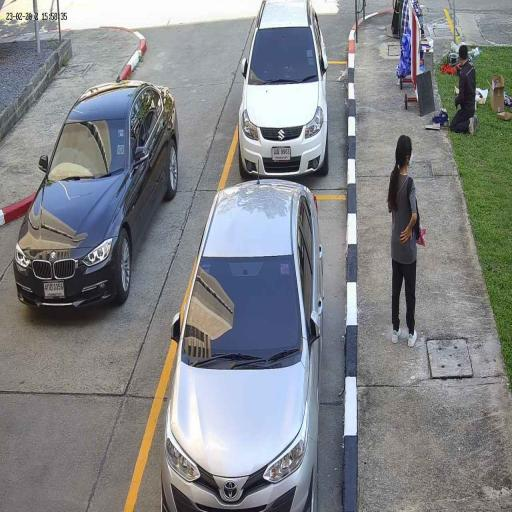car: (160, 177, 325, 512), (14, 80, 181, 316), (237, 0, 330, 182)
